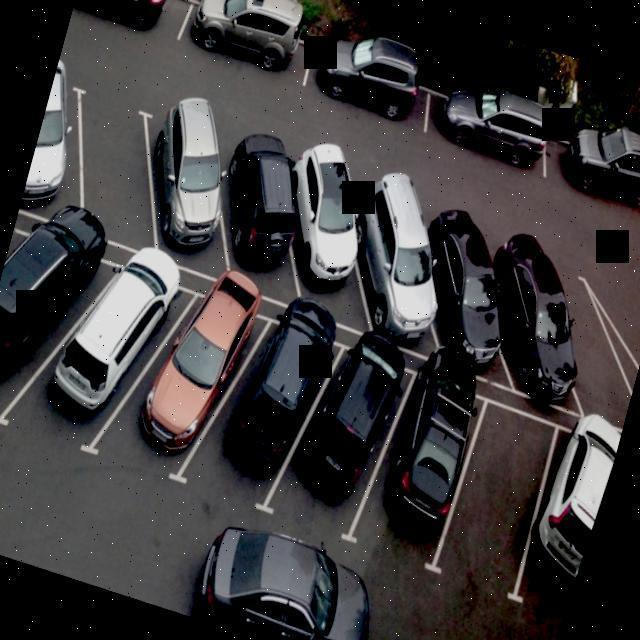car: (173, 294, 345, 524), (20, 248, 189, 467), (105, 274, 268, 500), (273, 330, 408, 542), (0, 215, 123, 427), (351, 368, 482, 566), (506, 422, 620, 618), (255, 138, 377, 315), (334, 175, 462, 341), (463, 238, 585, 410), (399, 202, 514, 373), (125, 103, 244, 263), (198, 124, 310, 287), (296, 41, 436, 136), (176, 0, 317, 92), (20, 64, 97, 213), (423, 85, 551, 173), (538, 134, 640, 223), (68, 0, 196, 54)
free: (425, 402, 562, 598), (51, 84, 178, 253), (525, 248, 640, 427)
